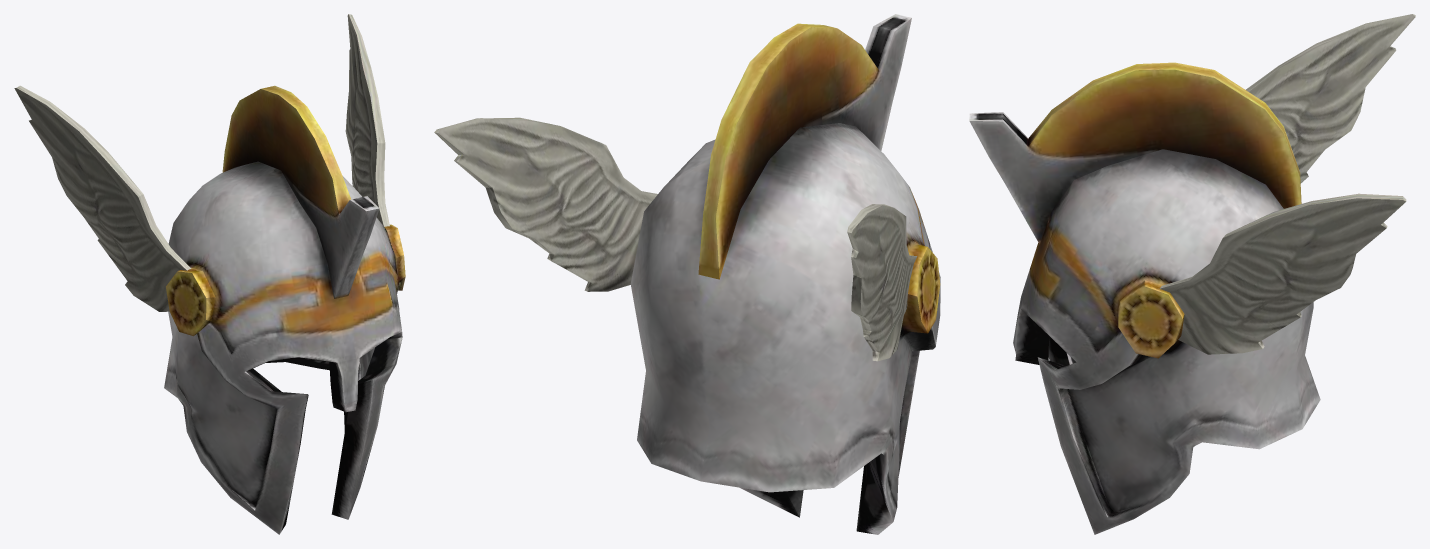
Rendered from rider-helmet-slice-base.glb.
3 views of the same model, side by side, from view 1: azimuth 30°, elevation 25°; view 2: azimuth 150°, elevation 25°; view 3: azimuth 270°, elevation 25° (orthographic). The views are drawn at different scales.
Bounding box in the file's own units: 0.4151 × 0.4849 × 0.432.
Materials: 1 (1 with a texture image).
